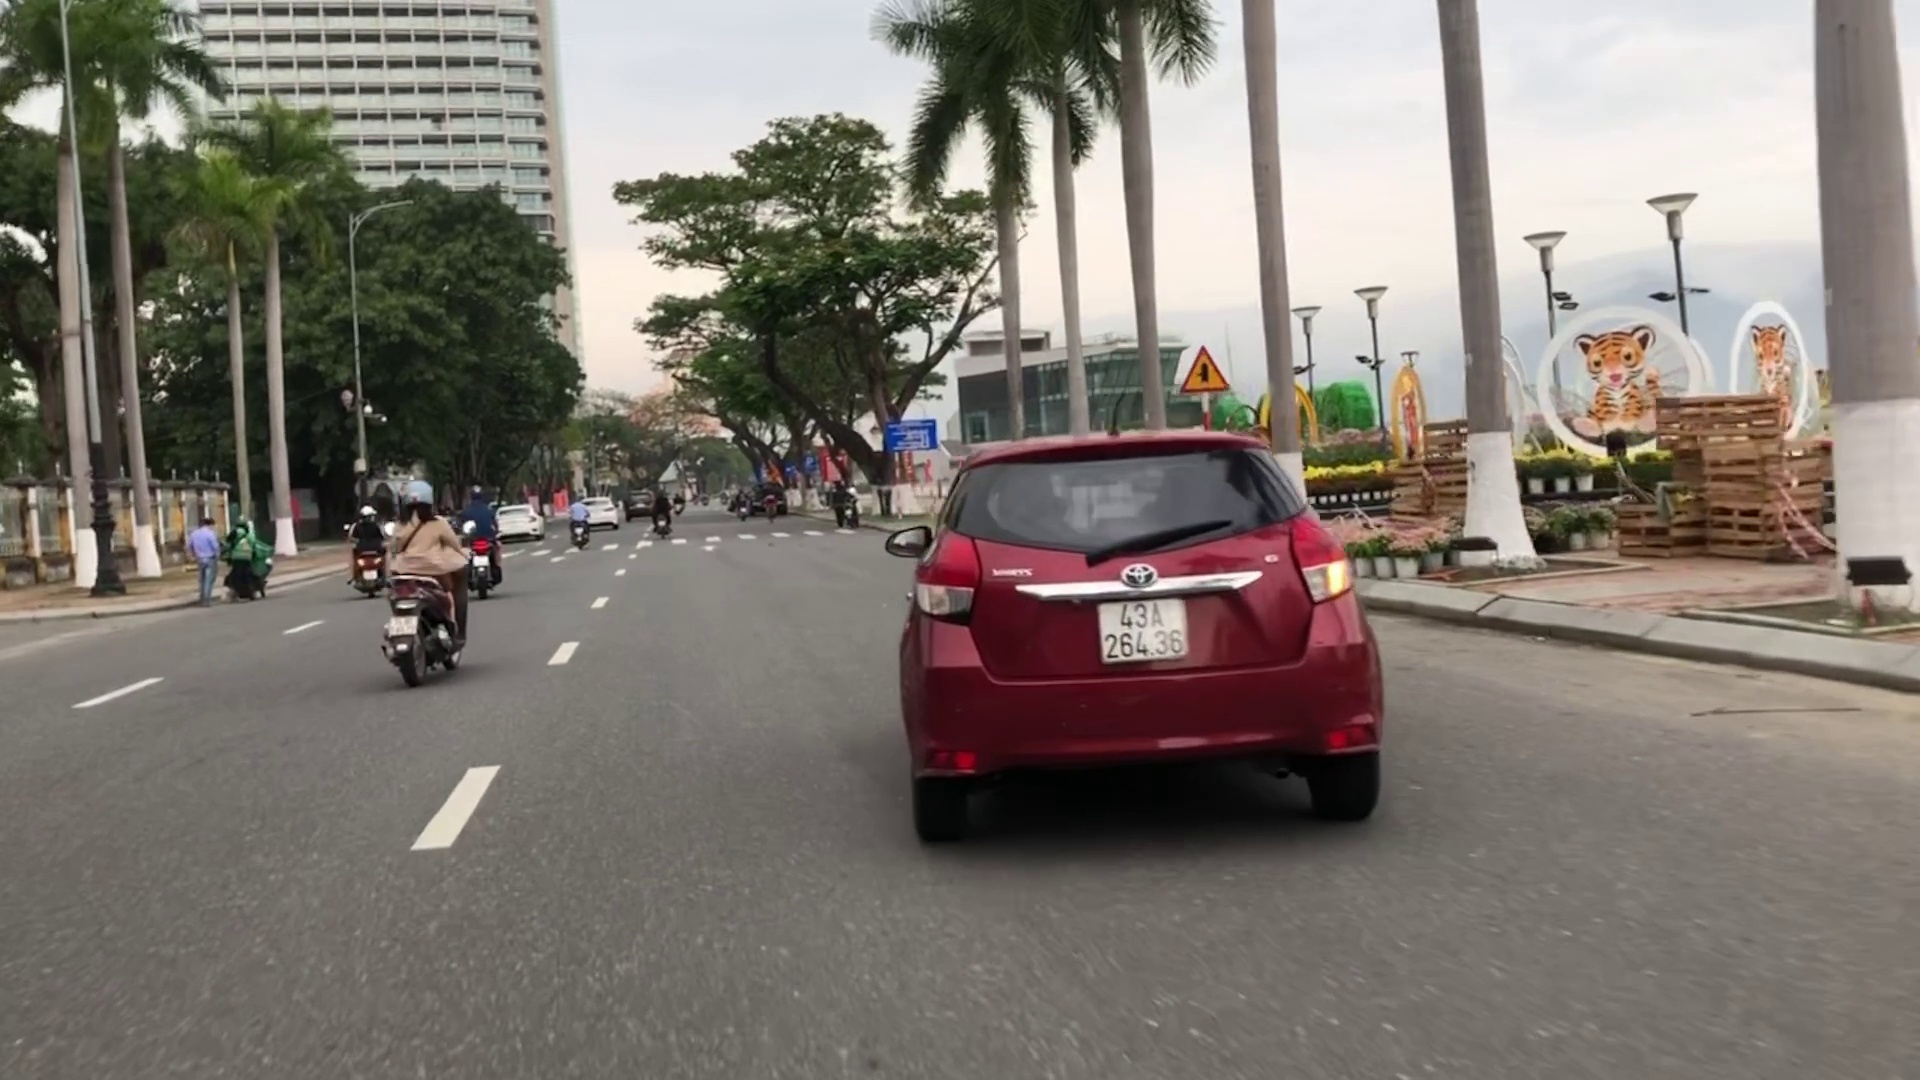Giao nhau voi duong khong uu tien: (1175, 339, 1229, 394)
